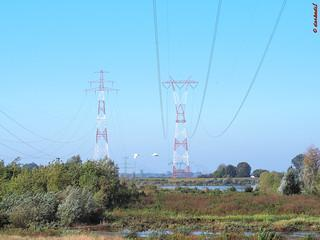power_tower: (162, 73, 201, 179)
